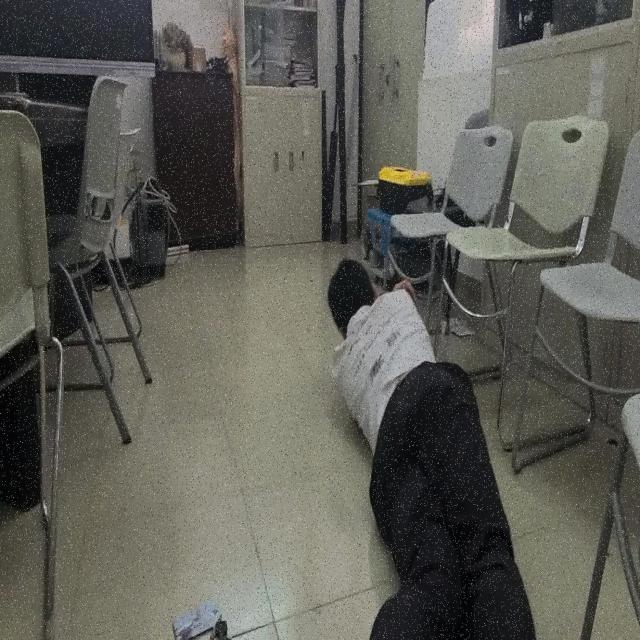fall: (329, 252, 538, 640)
